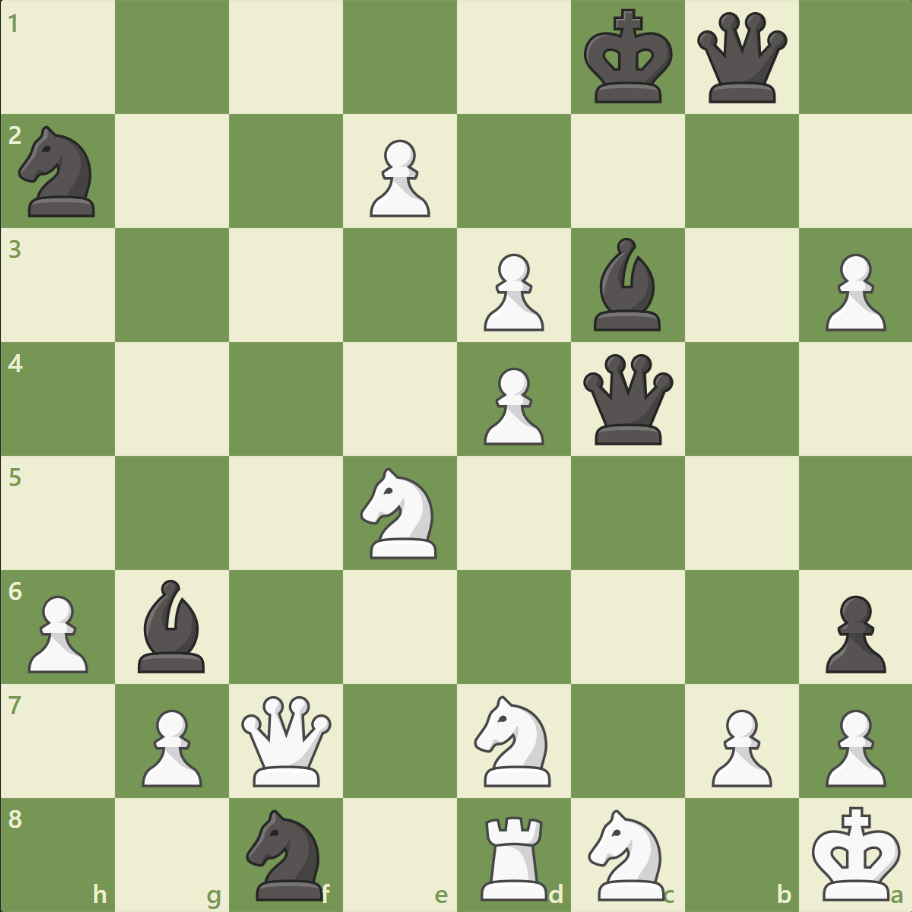K: (806, 798, 906, 906)
N: (351, 461, 449, 564), (465, 688, 562, 791), (579, 802, 676, 904)
P: (701, 700, 776, 791), (133, 700, 208, 791), (20, 586, 95, 677), (474, 359, 549, 450), (474, 246, 549, 337), (815, 700, 889, 791), (815, 246, 889, 337), (361, 132, 435, 223)
Q: (237, 690, 336, 789)
R: (473, 806, 556, 904)
b: (585, 233, 669, 336), (131, 574, 215, 676)
k: (579, 4, 679, 112)
n: (238, 802, 335, 904), (11, 121, 108, 223)
p: (815, 586, 889, 677)
q: (578, 349, 677, 449), (691, 9, 790, 108)
